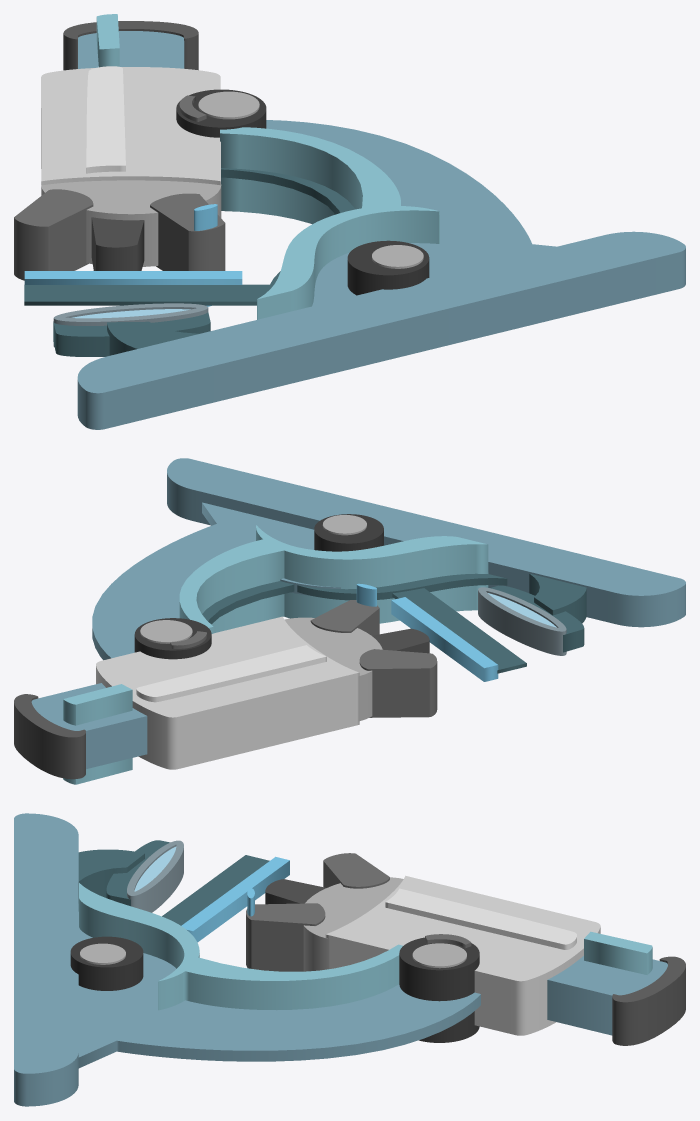
Rendered from emoji_u1f52c.glb.
3 views of the same model, one above another, from view 1: azimuth 30°, elevation 25°; view 2: azimuth 150°, elevation 25°; view 3: azimuth 270°, elevation 25° (orthographic). The views are drawn at different scales.
Parts seen in each view (by area): view 1: emoji_u1f52c; view 2: emoji_u1f52c; view 3: emoji_u1f52c.
Boxes of the visible parts, <box> form: emoji_u1f52c: <box>14,14,685,429</box>; emoji_u1f52c: <box>14,458,685,784</box>; emoji_u1f52c: <box>14,813,685,1106</box>.
Bounding box in the file's own units: 0.0307 × 0.0048 × 0.0335.
